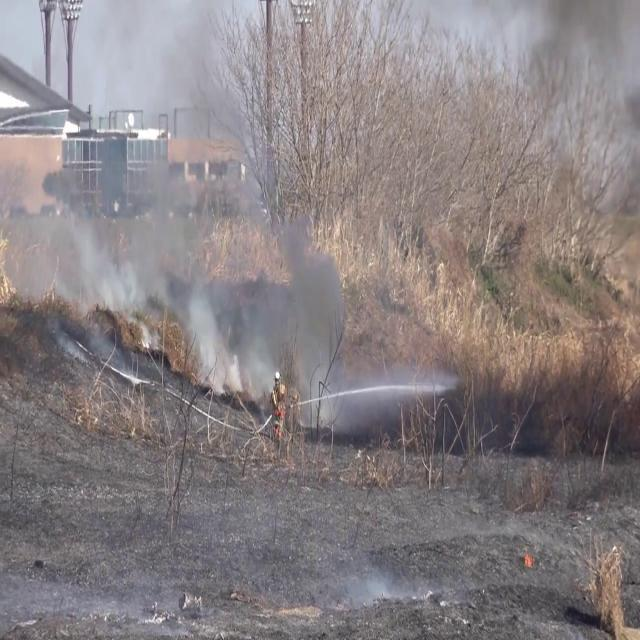Smoke: (1, 6, 316, 407)
